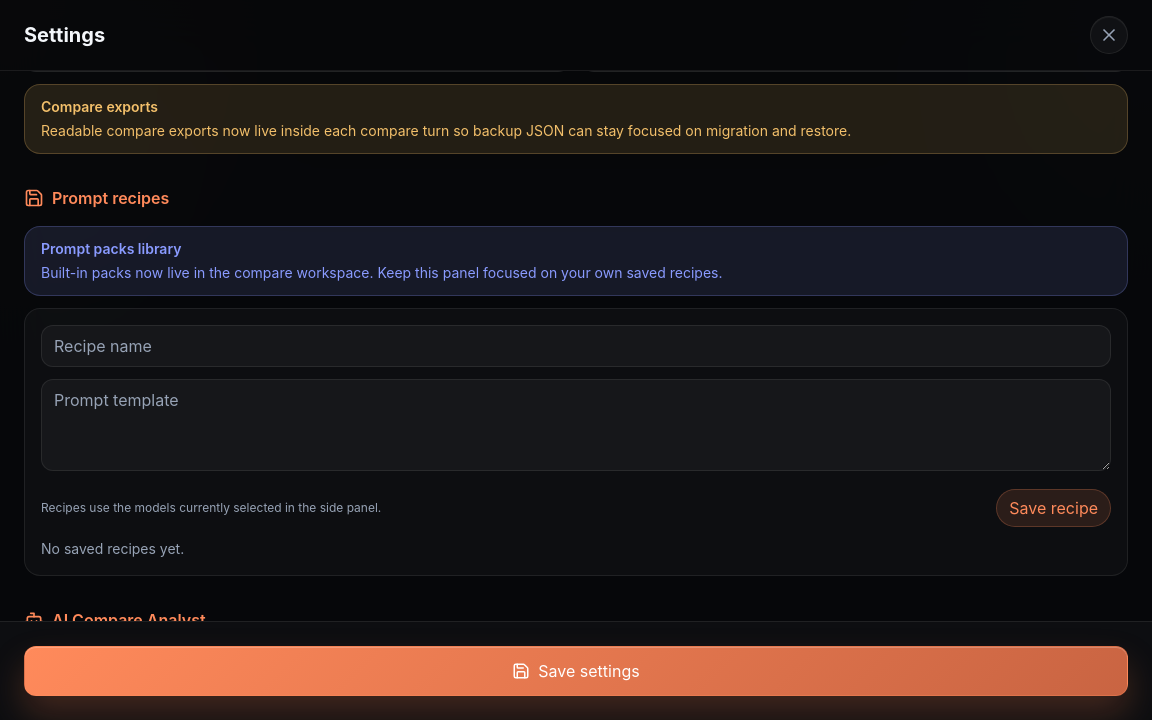
Test: SettingsPanel › adds and deletes a saved recipe
(page scrolled)
Type "Release note recap" into the field with placeholder "Recipe name" at (576, 346), box left=41, top=325, right=1111, bottom=367
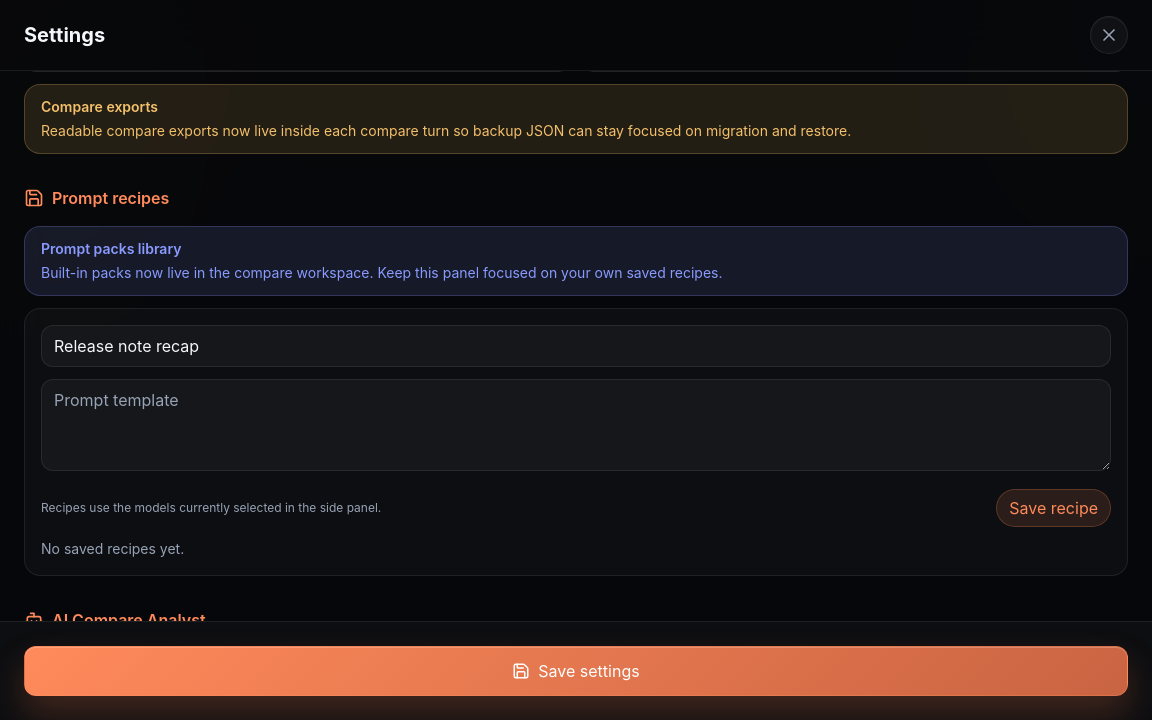
Type "Summarize the last release in three bullets." into the text box with placeholder "Prompt template" at (576, 425), box left=41, top=379, right=1111, bottom=471
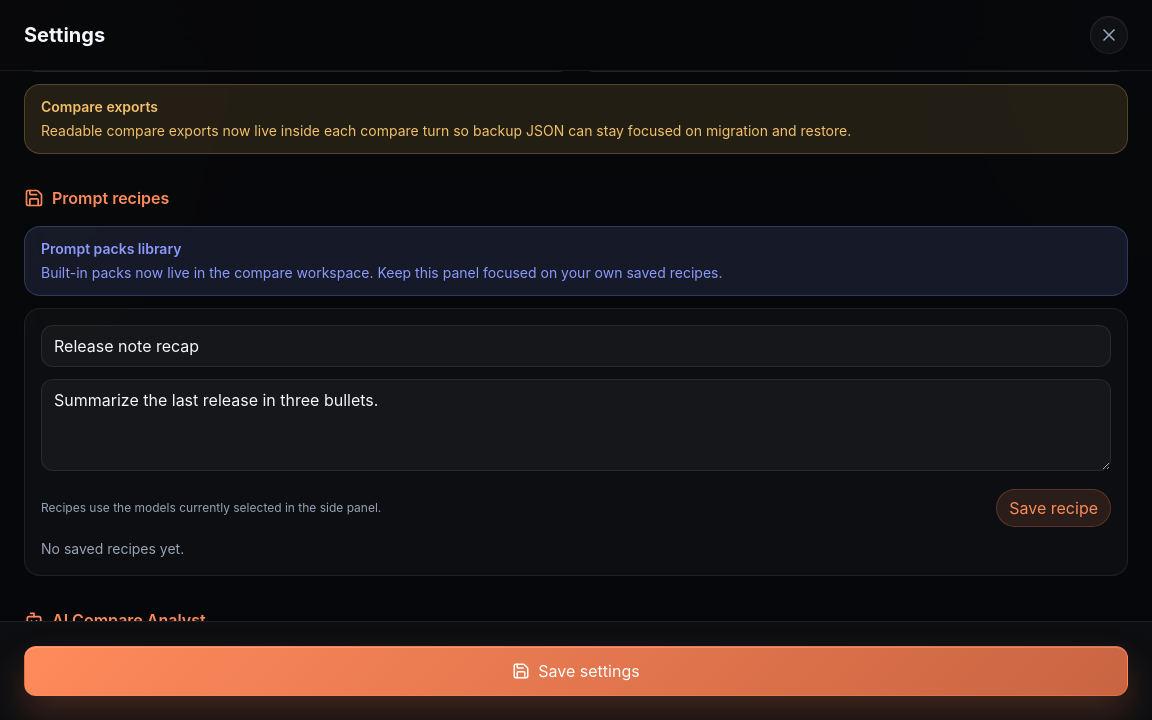
Click the button "Save recipe" at (1054, 508), box left=996, top=489, right=1111, bottom=527
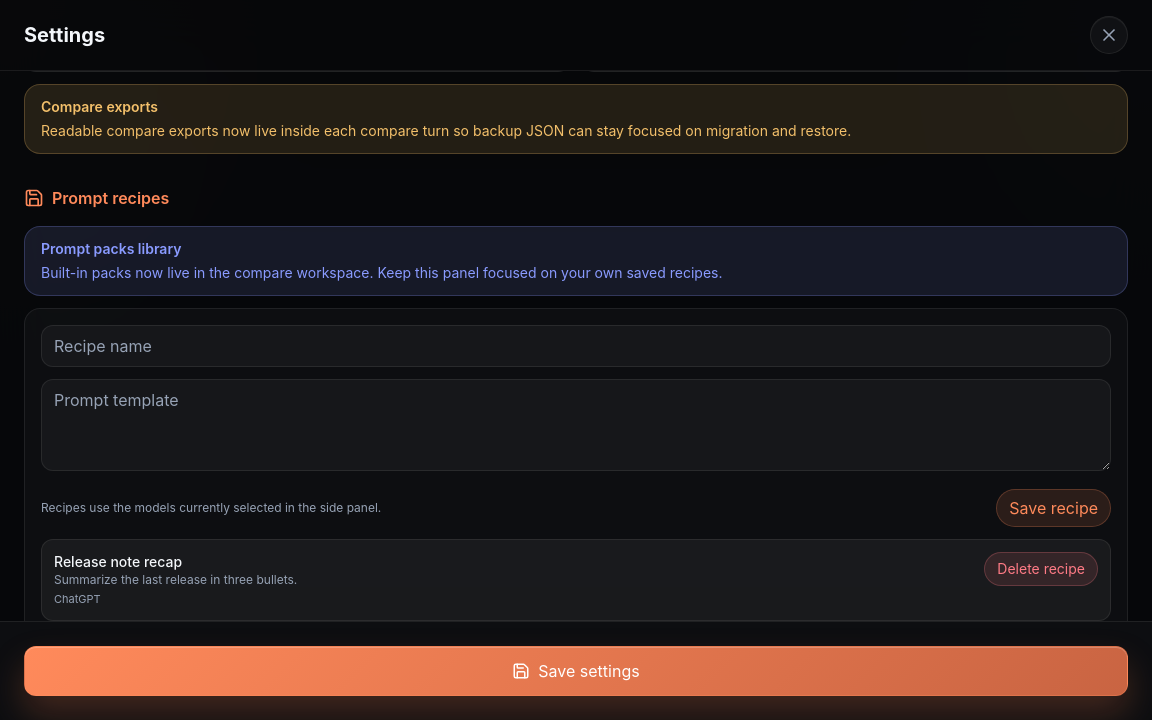
expect the text "Release note recap" is shown: met, box left=54, top=553, right=182, bottom=570
expect the text "Summarize the last release in three bullets." is shown: met, box left=54, top=572, right=297, bottom=588
Click the button "Delete recipe" at (1041, 569), box left=984, top=552, right=1098, bottom=586
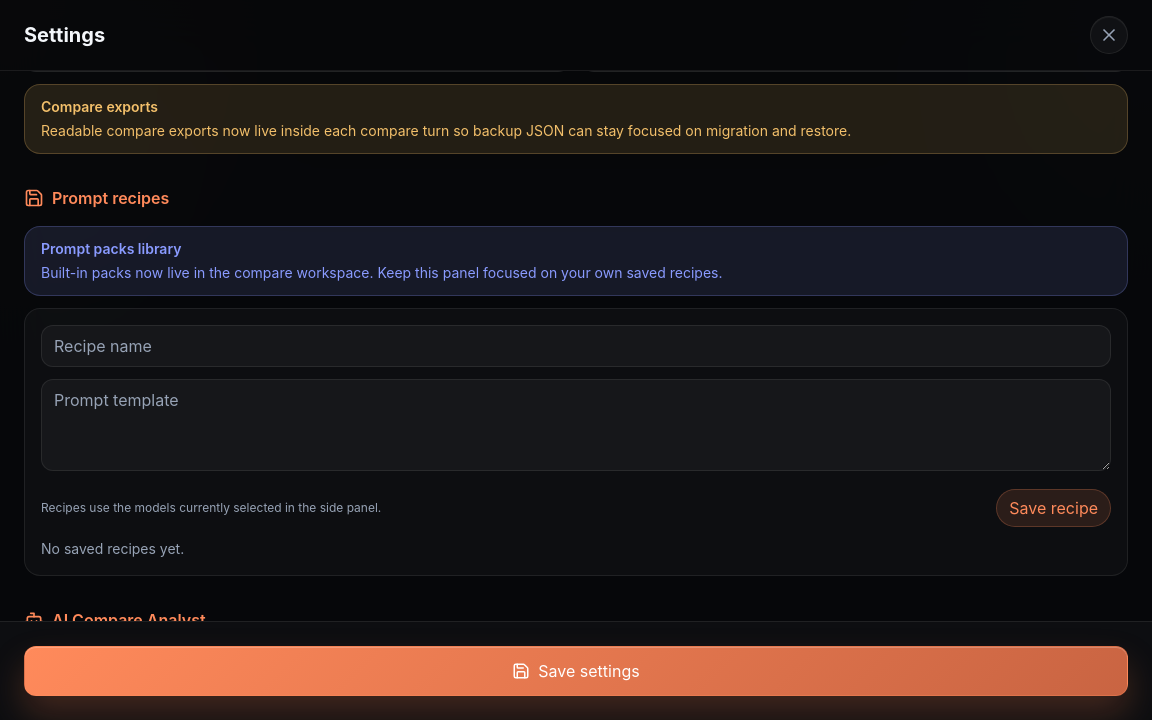
expect the text "Release note recap" is gone: met
